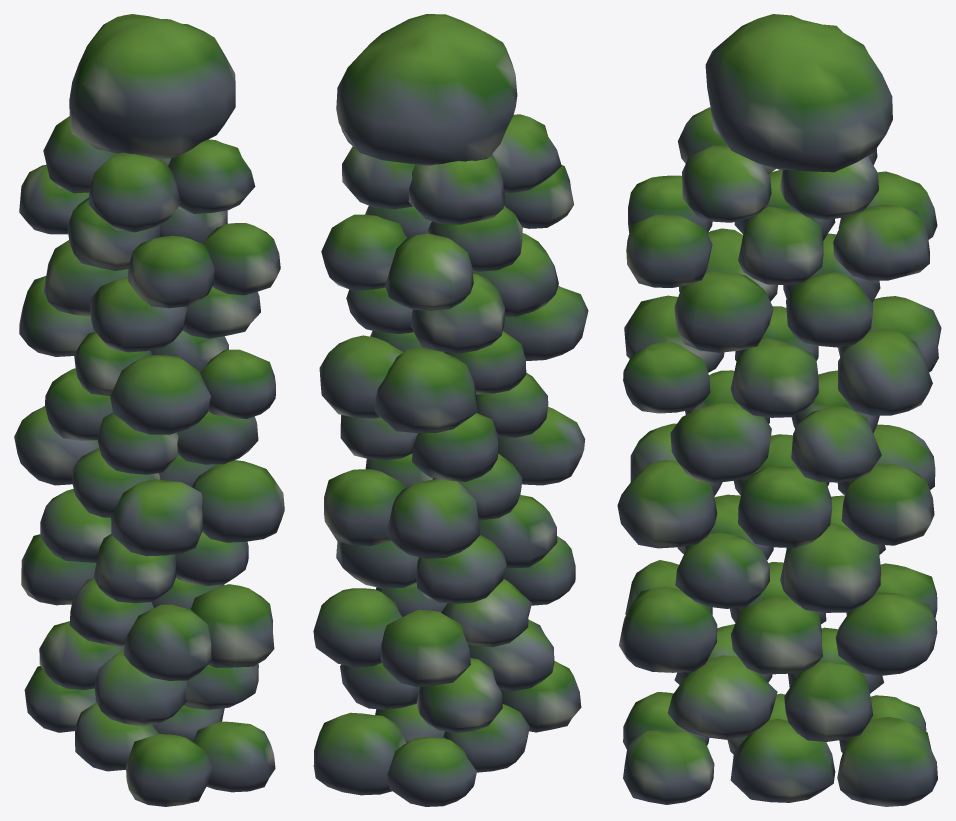
Rendered from grip_stones.glb.
3 renders of one model, left to right at view 1: azimuth 30°, elevation 25°; view 2: azimuth 150°, elevation 25°; view 3: azimuth 270°, elevation 25°, orthographic. The views are drawn at different scales.
Parts seen in each view (by area): view 1: hero_boulder, stone_L06_30, stone_L04_23, stone_L04_20, stone_L09_46, stone_L02_10, stone_L02_13, stone_L00_00, stone_L08_40, stone_L07_36, stone_L09_48, stone_L01_06 (+29 smaller); view 2: hero_boulder, stone_L06_32, stone_L04_22, stone_L00_05, stone_L02_12, stone_L08_42, stone_L09_47, stone_L02_15, stone_L00_02, stone_L08_45, stone_L04_25, stone_L06_35 (+29 smaller); view 3: hero_boulder, stone_L00_05, stone_L03_19, stone_L02_13, stone_L04_23, stone_L01_08, stone_L02_15, stone_L00_04, stone_L07_38, stone_L06_35, stone_L05_28, stone_L04_24 (+36 smaller).
Boxes of the visible parts, x1=… form: hero_boulder: x1=69, y1=14, x2=235, y2=159; stone_L06_30: x1=110, y1=355, x2=210, y2=434; stone_L04_23: x1=191, y1=460, x2=284, y2=542; stone_L04_20: x1=111, y1=479, x2=203, y2=556; stone_L09_46: x1=88, y1=152, x2=181, y2=232; stone_L02_10: x1=123, y1=604, x2=211, y2=680; stone_L02_13: x1=191, y1=584, x2=274, y2=667; stone_L00_00: x1=126, y1=734, x2=212, y2=806; stone_L08_40: x1=128, y1=235, x2=214, y2=308; stone_L07_36: x1=89, y1=277, x2=186, y2=352; stone_L09_48: x1=168, y1=139, x2=255, y2=213; stone_L01_06: x1=94, y1=651, x2=186, y2=726; hero_boulder: x1=336, y1=14, x2=517, y2=165; stone_L06_32: x1=375, y1=347, x2=477, y2=432; stone_L04_22: x1=386, y1=479, x2=479, y2=558; stone_L00_05: x1=313, y1=712, x2=406, y2=795; stone_L02_12: x1=380, y1=609, x2=470, y2=687; stone_L08_42: x1=385, y1=233, x2=473, y2=310; stone_L09_47: x1=408, y1=154, x2=504, y2=224; stone_L02_15: x1=313, y1=588, x2=402, y2=667; stone_L00_02: x1=387, y1=737, x2=476, y2=806; stone_L08_45: x1=321, y1=214, x2=407, y2=290; stone_L04_25: x1=324, y1=469, x2=405, y2=545; stone_L06_35: x1=319, y1=335, x2=403, y2=418; hero_boulder: x1=705, y1=14, x2=892, y2=172; stone_L00_05: x1=837, y1=717, x2=937, y2=806; stone_L03_19: x1=780, y1=522, x2=880, y2=612; stone_L02_13: x1=619, y1=586, x2=717, y2=672; stone_L04_23: x1=617, y1=460, x2=717, y2=548; stone_L01_08: x1=667, y1=655, x2=777, y2=739; stone_L02_15: x1=836, y1=592, x2=937, y2=675; stone_L00_04: x1=730, y1=718, x2=835, y2=802; stone_L07_38: x1=674, y1=271, x2=773, y2=352; stone_L06_35: x1=838, y1=329, x2=932, y2=415; stone_L05_28: x1=670, y1=402, x2=771, y2=482; stone_L04_24: x1=738, y1=466, x2=832, y2=547.
Size of the model in its own units: 2.64 by 10.88 by 4.2.
